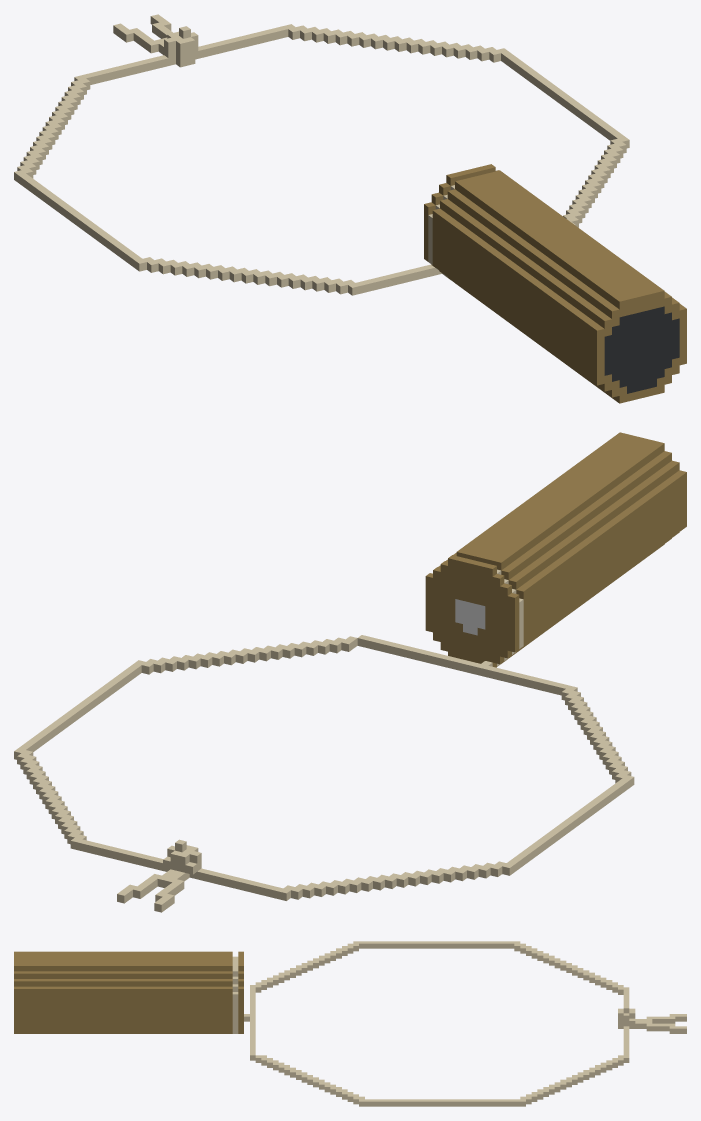
File: simple_ordnance_cartridge_necklace.glb
The picture shows the model from 3 angles, top to bottom: view 1: azimuth 30°, elevation 25°; view 2: azimuth 150°, elevation 25°; view 3: azimuth 270°, elevation 25°; orthographic projection. The views are drawn at different scales.
Visible parts, largest first — view 1: simple_ordnance_cartridge_necklace:compound; view 2: simple_ordnance_cartridge_necklace:compound; view 3: simple_ordnance_cartridge_necklace:compound.
Boxes of the visible parts, left/top/right/bottom form: simple_ordnance_cartridge_necklace:compound: left=14, top=14, right=686, bottom=403; simple_ordnance_cartridge_necklace:compound: left=14, top=432, right=686, bottom=912; simple_ordnance_cartridge_necklace:compound: left=14, top=941, right=686, bottom=1106.
Bounding box in the file's own units: 0.132 × 0.026 × 0.234.
